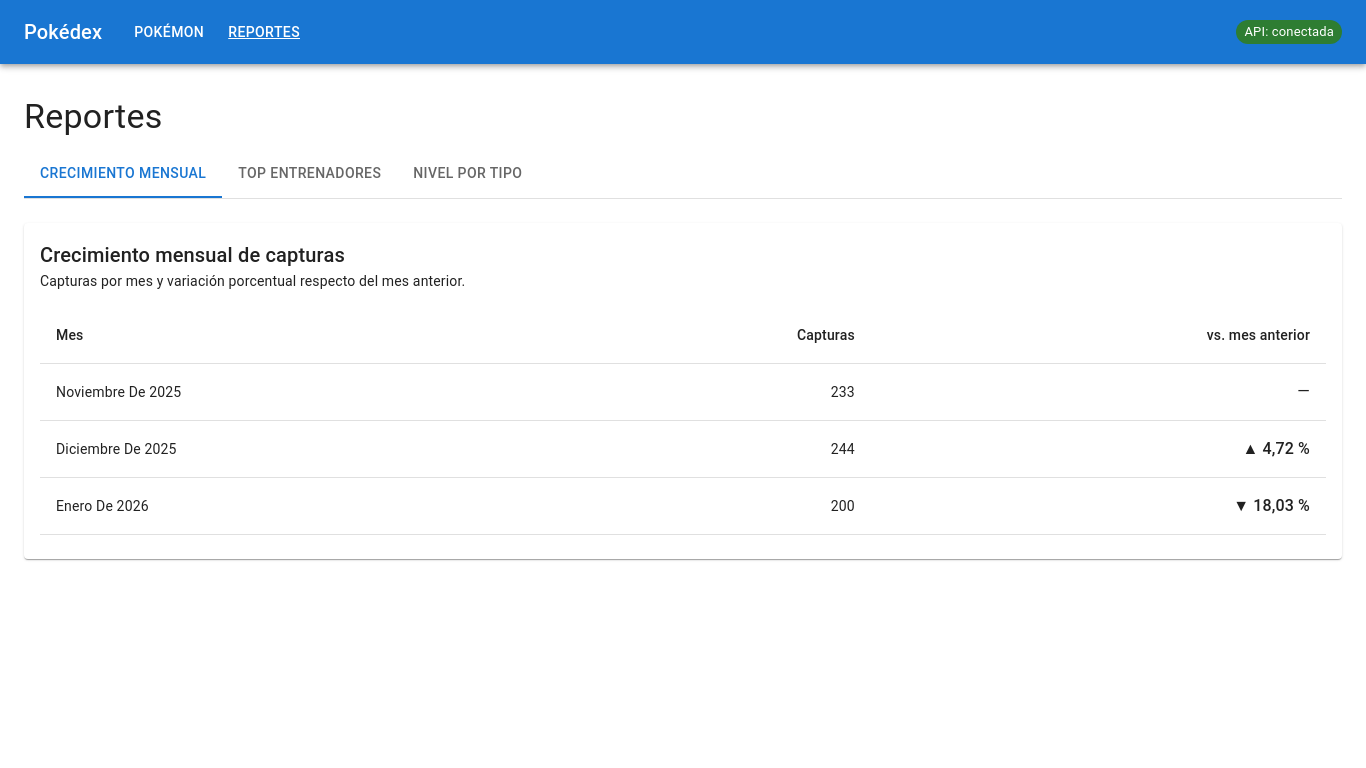
Test: /reports › las pestañas navegan a B y C, y cada reporte se pide una sola vez
Expected: the text "noviembre de 2025" is shown, [40,363,569,420]
Click the tab "Top entrenadores": (310, 173) [238,165,381,181]
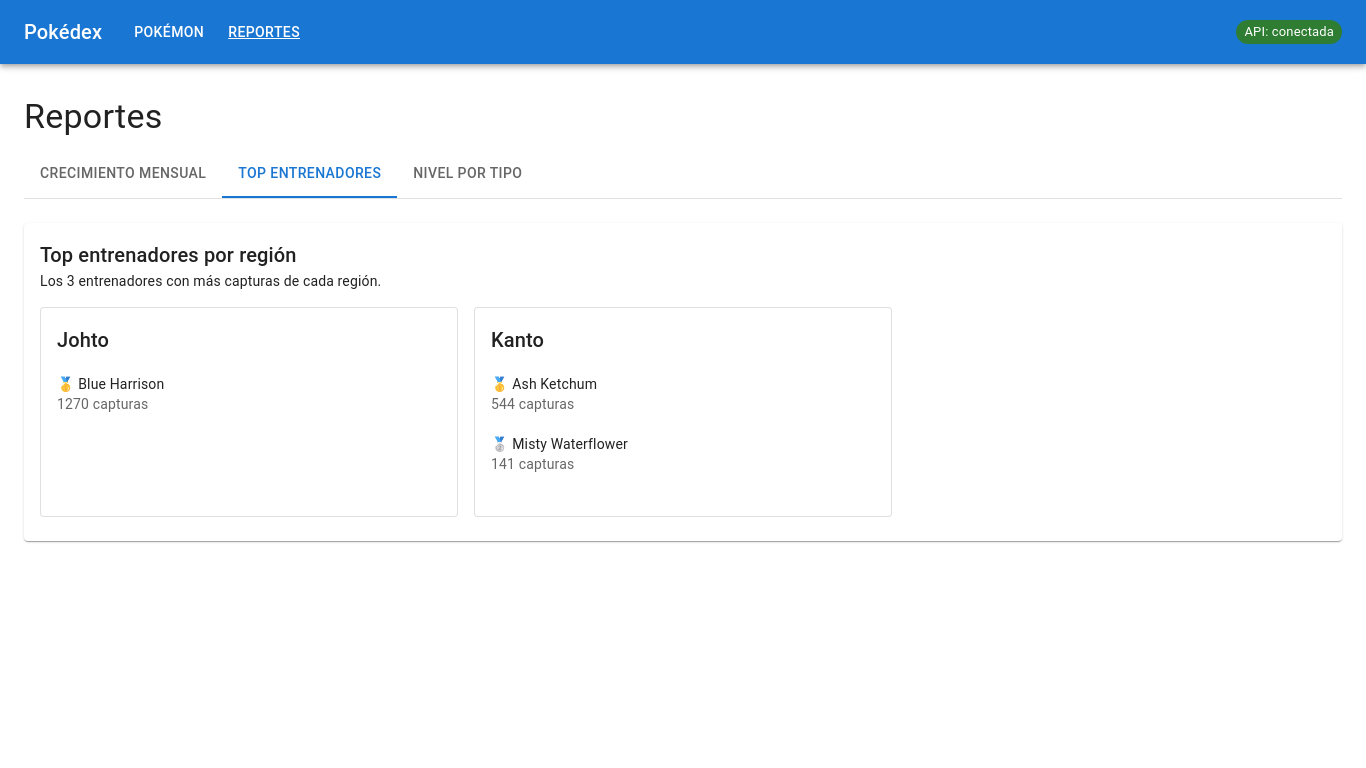
Result: the text "🥇 Ash Ketchum" is shown at [491,376,597,392]
Result: the text "🥈 Misty Waterflower" is shown at [491,436,628,452]
Result: the heading "Johto" is shown at [57,328,109,352]
Click the tab "Nivel por tipo": (468, 173) [413,165,522,181]
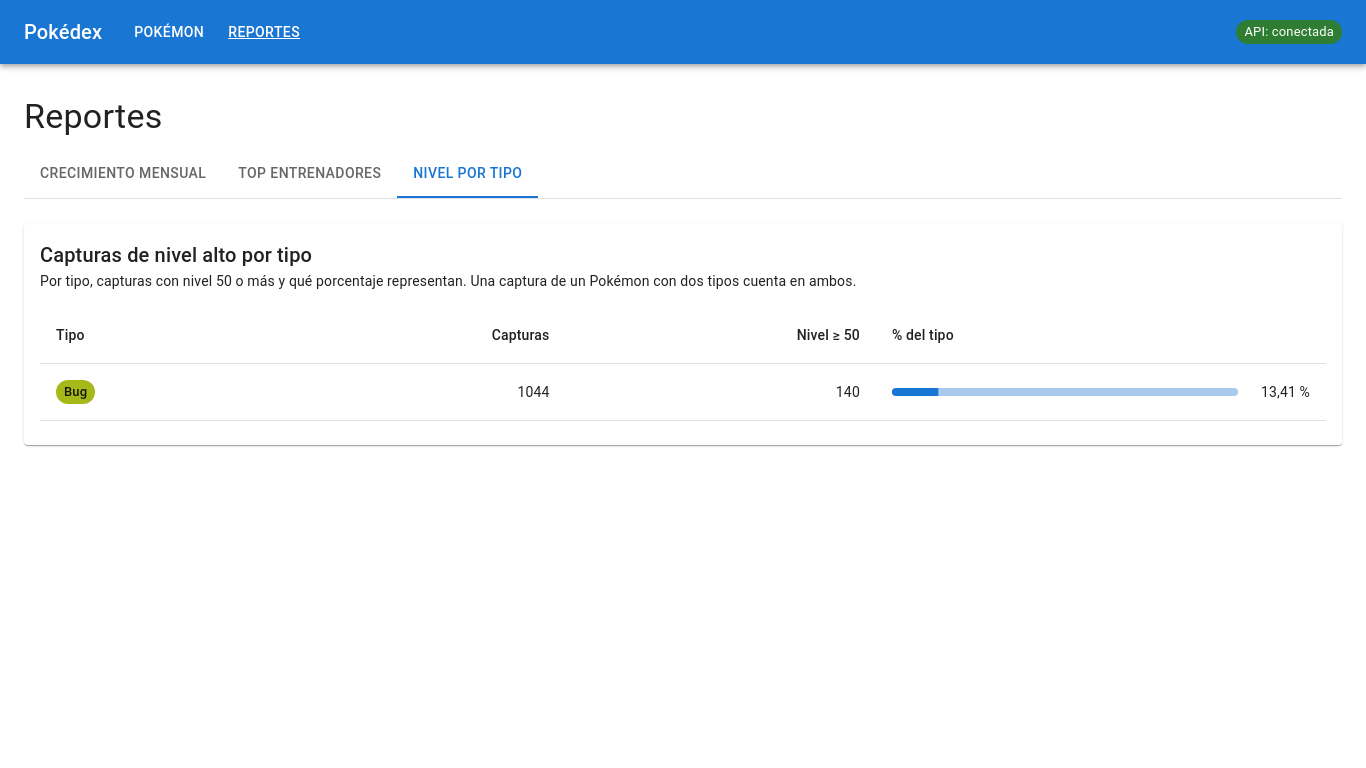
Result: the text "13,41 %" is shown at [1261,384,1310,400]
Click the tab "Crecimiento mensual": (123, 173) [40,165,206,181]
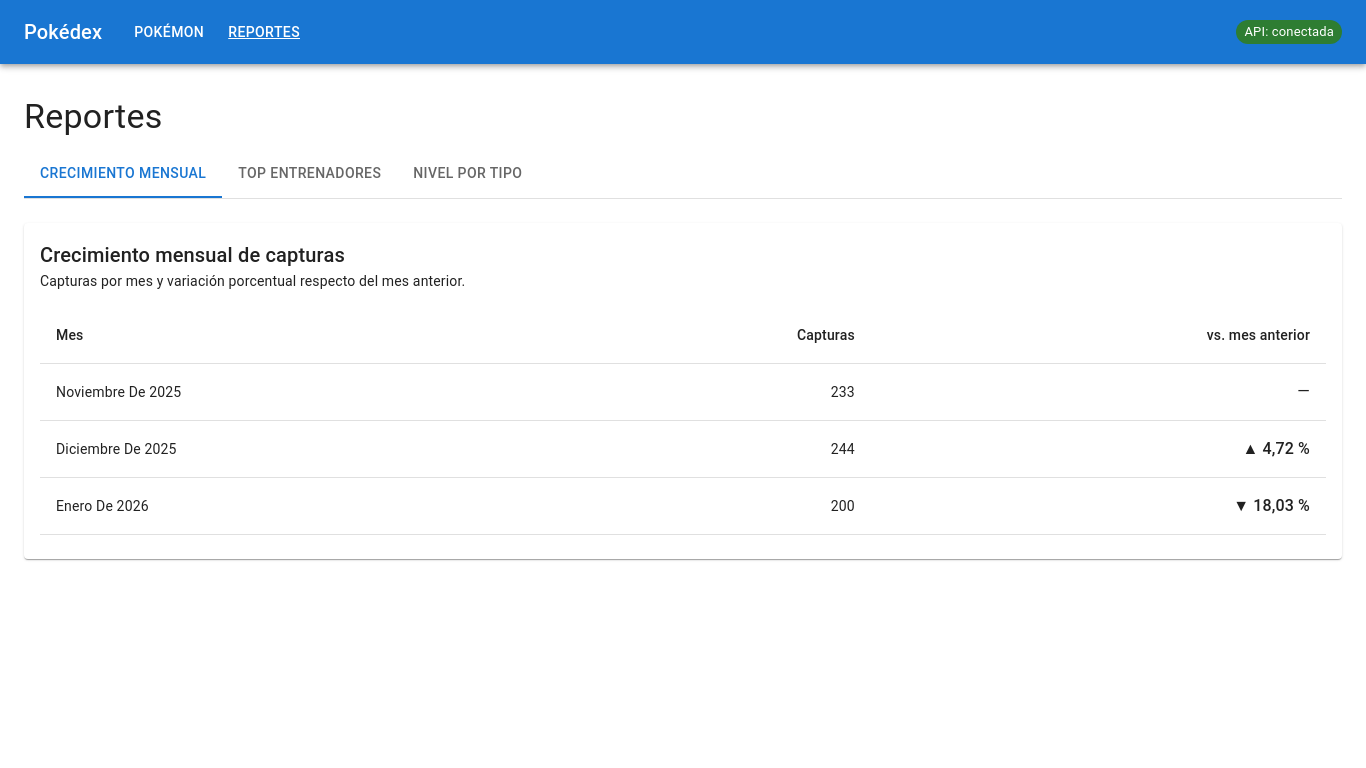
Result: the text "noviembre de 2025" is shown at [40,363,569,420]
